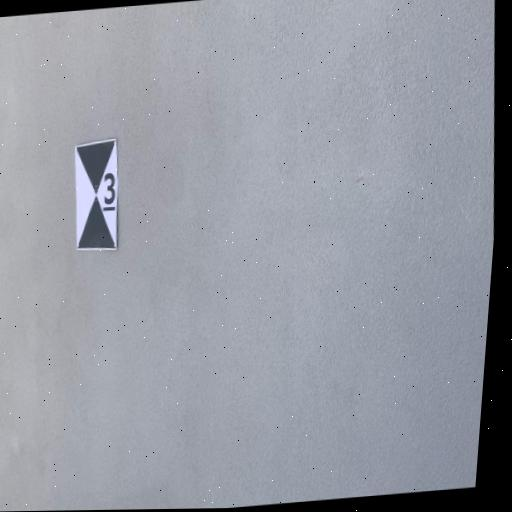target3: (75, 138, 118, 251)
